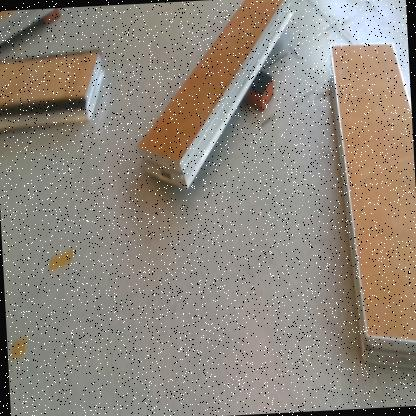Stairs: (136, 1, 295, 191), (330, 41, 416, 371), (1, 49, 105, 133), (1, 9, 54, 48)
